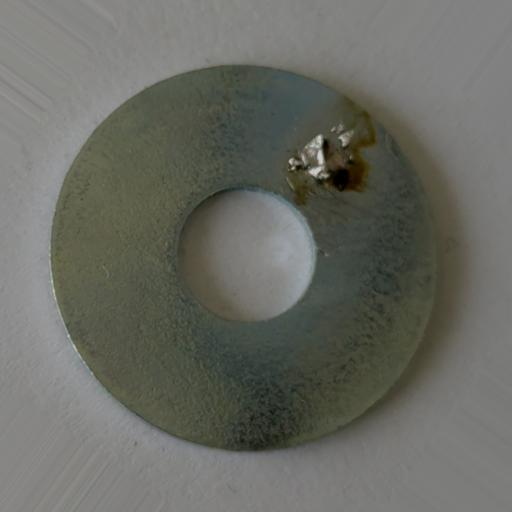excess_material: (285, 119, 353, 193)
